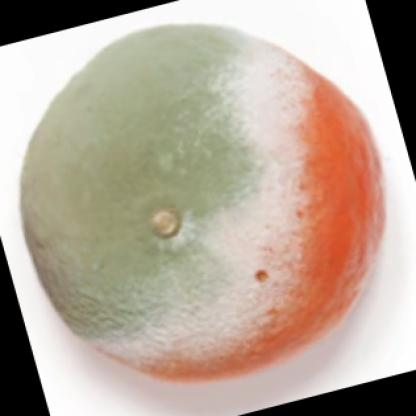rotten: (23, 27, 385, 379)
